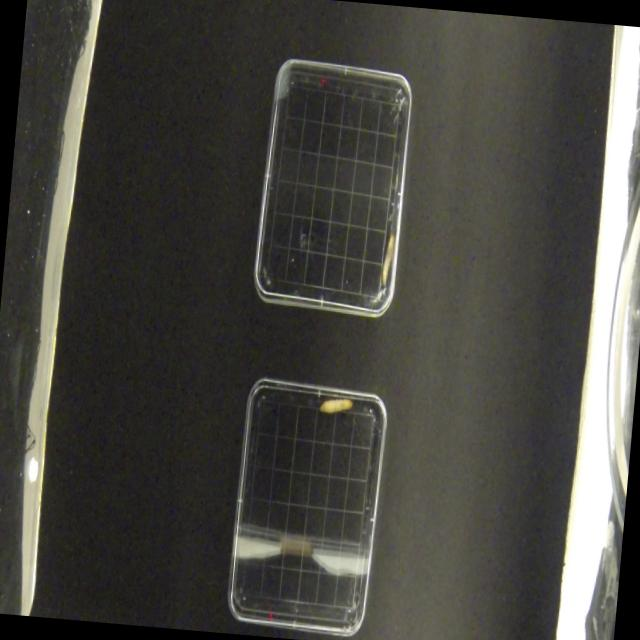larva: (379, 228, 395, 286), (318, 395, 354, 416)
